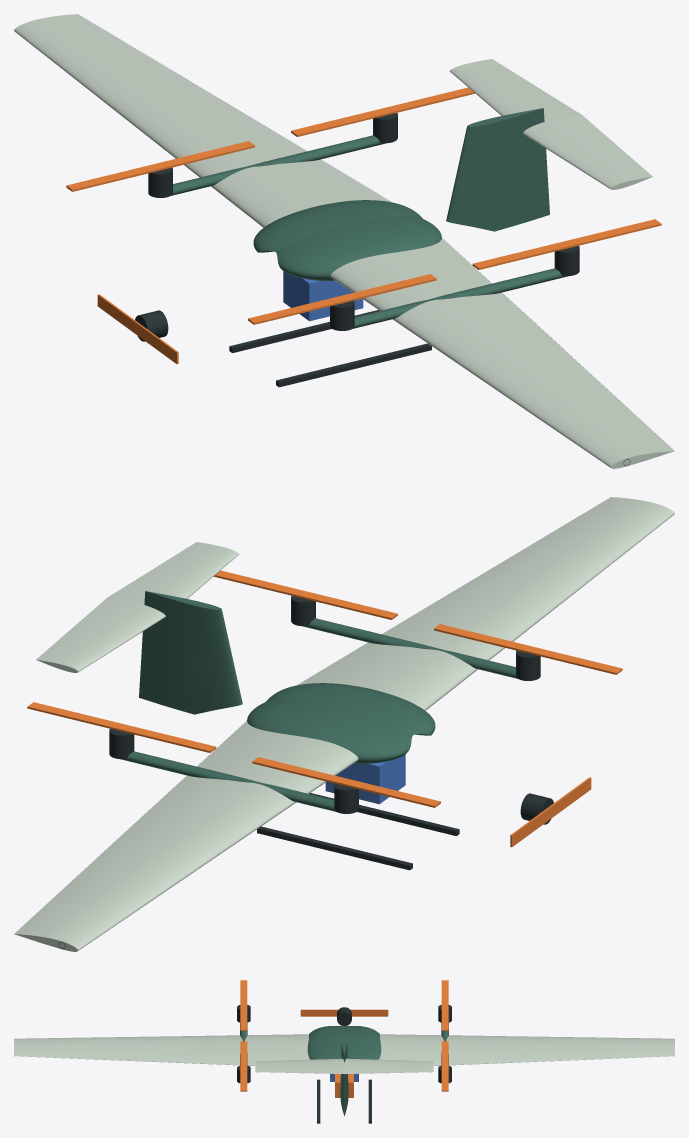
The model's file is control-01-internal.glb.
3 views of the same model, one above another, from view 1: azimuth 30°, elevation 25°; view 2: azimuth 150°, elevation 25°; view 3: azimuth 270°, elevation 25° (orthographic). The views are drawn at different scales.
Parts seen in each view (by area): view 1: wing-1, wing1, fin, root_fairing-1, tail-1, root_fairing1, tail1, boom_fairing-1, boom_fairing1, payload, prop_-1_700.0, prop_-1_200.0 (+8 smaller); view 2: wing1, wing-1, fin, root_fairing1, tail1, root_fairing-1, tail-1, boom_fairing1, boom_fairing-1, payload, prop_1_700.0, prop_-1_200.0 (+8 smaller); view 3: wing-1, wing1, tail-1, tail1, root_fairing-1, root_fairing1, cruise_prop, fin, prop_-1_200.0, prop_-1_700.0, prop_1_200.0, prop_1_700.0 (+2 smaller).
Boxes of the visible parts, x1,y1,x2,y2 form: wing-1: [330, 238, 674, 468]; wing1: [14, 14, 391, 227]; fin: [446, 108, 549, 231]; root_fairing-1: [276, 216, 441, 280]; tail-1: [523, 114, 652, 189]; root_fairing1: [253, 200, 422, 252]; tail1: [449, 59, 581, 121]; boom_fairing-1: [353, 268, 567, 328]; boom_fairing1: [171, 135, 385, 195]; payload: [283, 271, 363, 321]; prop_-1_700.0: [472, 219, 661, 269]; prop_-1_200.0: [248, 274, 436, 324]; wing1: [14, 721, 358, 951]; wing-1: [297, 497, 674, 710]; fin: [139, 591, 242, 714]; root_fairing1: [247, 699, 412, 763]; tail1: [36, 597, 165, 672]; root_fairing-1: [266, 683, 435, 735]; tail-1: [107, 542, 239, 604]; boom_fairing1: [121, 751, 335, 811]; boom_fairing-1: [303, 618, 517, 678]; payload: [325, 754, 405, 804]; prop_1_700.0: [27, 702, 216, 752]; prop_-1_200.0: [434, 624, 622, 674]; wing-1: [14, 1034, 309, 1065]; wing1: [379, 1034, 674, 1065]; tail-1: [255, 1058, 344, 1074]; tail1: [344, 1058, 433, 1073]; root_fairing-1: [307, 1026, 344, 1059]; root_fairing1: [344, 1026, 381, 1059]; cruise_prop: [300, 1009, 388, 1016]; fin: [340, 1034, 348, 1116]; prop_-1_200.0: [240, 980, 247, 1030]; prop_-1_700.0: [240, 1041, 247, 1091]; prop_1_200.0: [441, 980, 448, 1030]; prop_1_700.0: [441, 1041, 448, 1091].
Size of the model in its own units: 989 by 405 by 2300.
